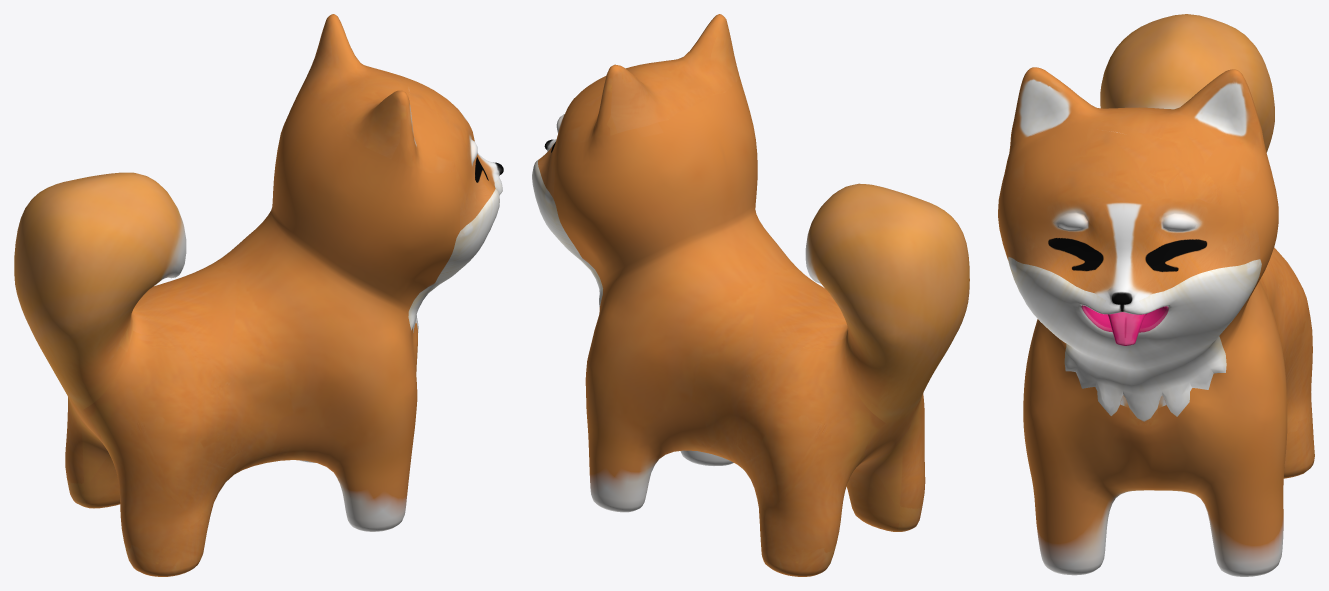
Rendered from shiba.glb.
3 views of the same model, side by side, from view 1: azimuth 30°, elevation 25°; view 2: azimuth 150°, elevation 25°; view 3: azimuth 270°, elevation 25° (orthographic). The views are drawn at different scales.
Parts seen in each view (by area): view 1: Shiba inu; view 2: Shiba inu; view 3: Shiba inu.
Boxes of the visible parts, x1=… form: Shiba inu: x1=14, y1=14, x2=503, y2=576; Shiba inu: x1=532, y1=14, x2=969, y2=576; Shiba inu: x1=998, y1=14, x2=1314, y2=576.
Size of the model in its own units: 1.42 by 1.39 by 0.7681.
1 material, 1 textured.
